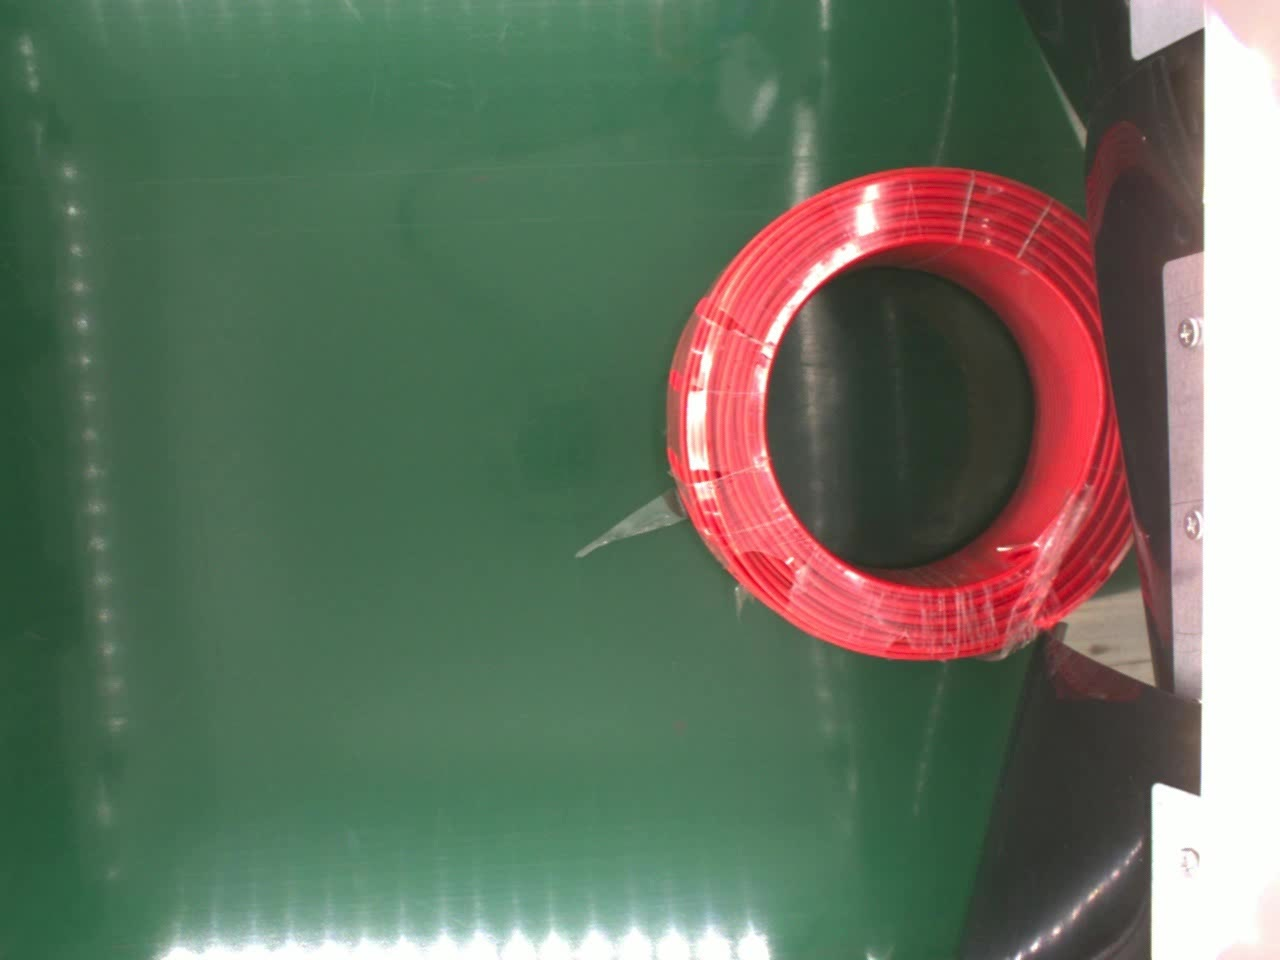red: (664, 164, 1144, 658)
